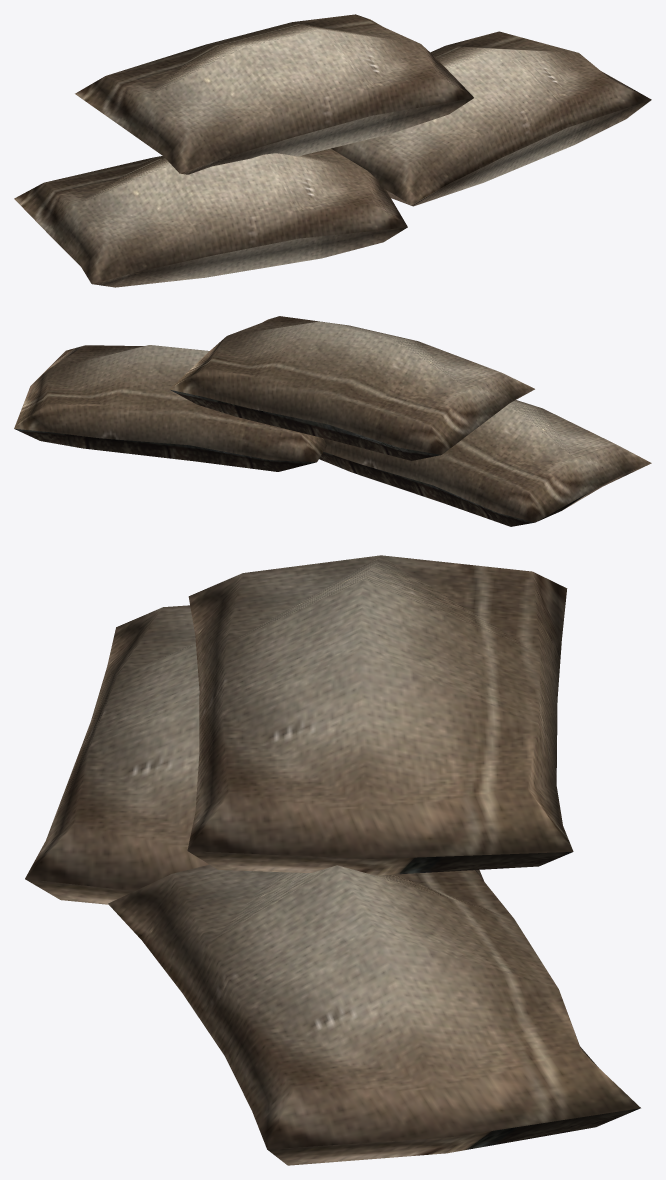
Rendered from GY_madai001.fbx.
The picture shows the model from 3 angles, top to bottom: view 1: azimuth 30°, elevation 25°; view 2: azimuth 150°, elevation 25°; view 3: azimuth 270°, elevation 25°; orthographic projection. The views are drawn at different scales.
Visible parts, largest first — view 1: GY_madai001; view 2: GY_madai001; view 3: GY_madai001.
Boxes of the visible parts, bbox=[...] form: GY_madai001: bbox=[14, 14, 651, 287]; GY_madai001: bbox=[14, 316, 651, 526]; GY_madai001: bbox=[25, 555, 640, 1165].
Size of the model in its own units: 285 by 72.85 by 139.
